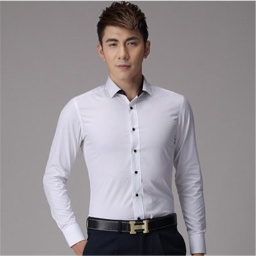face: (97, 2, 152, 82)
